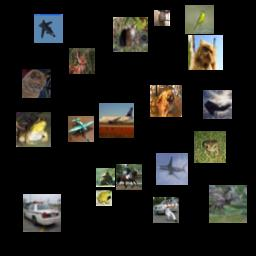airplane: (99, 103, 134, 138), (156, 153, 188, 185), (203, 90, 232, 119), (34, 14, 63, 43), (68, 116, 94, 142)
automobile: (23, 194, 61, 232), (153, 197, 179, 223)
bird: (185, 5, 214, 34)
cat: (188, 35, 223, 70), (113, 17, 148, 52), (22, 69, 51, 98)
deer: (209, 185, 247, 223), (69, 48, 95, 74)
dog: (150, 85, 182, 117), (154, 10, 170, 26)
frog: (16, 112, 51, 147), (194, 131, 226, 163), (96, 168, 115, 187), (96, 190, 112, 206)
